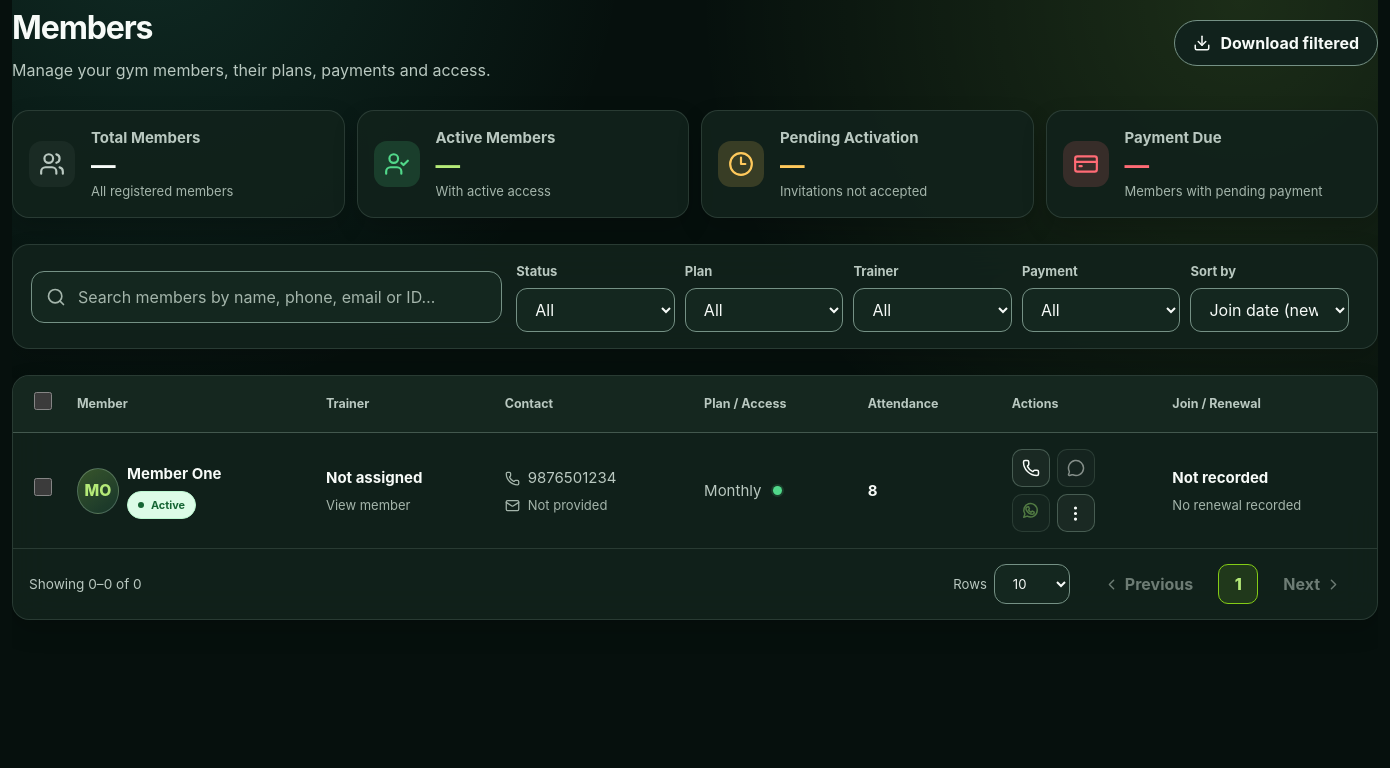
renders the owner member directory columns, actions and working row selection
Expected: the button named "Membership status: Active. Monthly" is shown, [765,479,789,503]
Expected: the dropdown named "Membership plan" is shown, [685,288,843,332]
Click the checkbox named "Select Member One" at (43, 487), box [34,478,52,496]
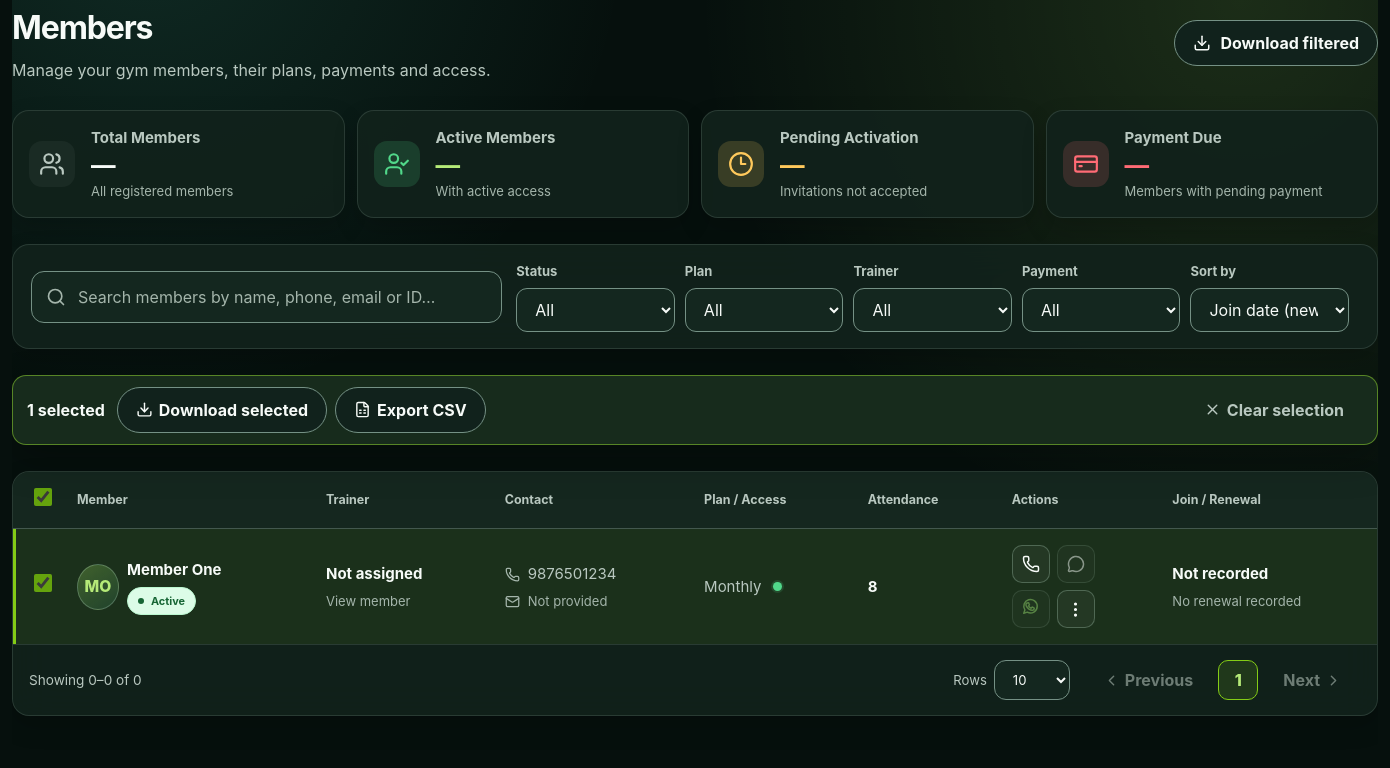
Now the text "1 selected" is shown, box [27,397,105,423]
